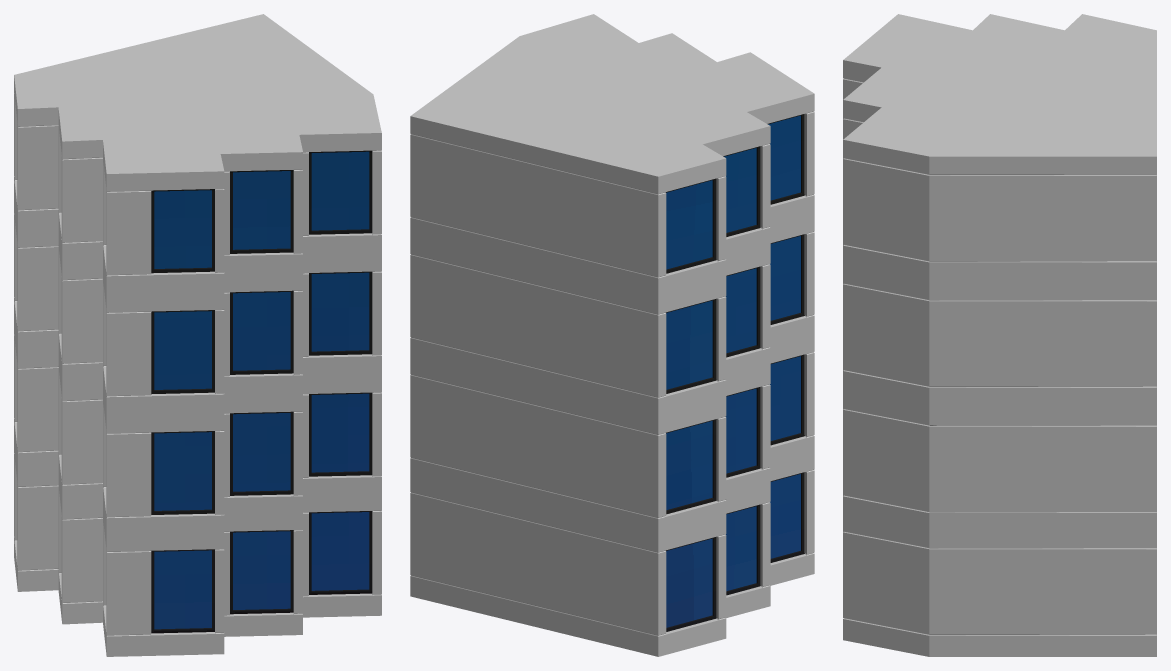
The model's file is CitySkyscraper03.fbx.
The picture shows the model from 3 angles, left to right: view 1: azimuth 30°, elevation 25°; view 2: azimuth 150°, elevation 25°; view 3: azimuth 270°, elevation 25°; orthographic projection. The views are drawn at different scales.
Visible parts, largest first — view 1: SM_City_Skyscraper_02_Mid_02a.mo; view 2: SM_City_Skyscraper_02_Mid_02a.mo; view 3: SM_City_Skyscraper_02_Mid_02a.mo.
Part boxes in pixels (left/top/right/bottom): SM_City_Skyscraper_02_Mid_02a.mo: left=14, top=14, right=381, bottom=656; SM_City_Skyscraper_02_Mid_02a.mo: left=410, top=14, right=814, bottom=656; SM_City_Skyscraper_02_Mid_02a.mo: left=843, top=14, right=1156, bottom=656.
Bounding box in the file's own units: 855 × 1400 × 796.
